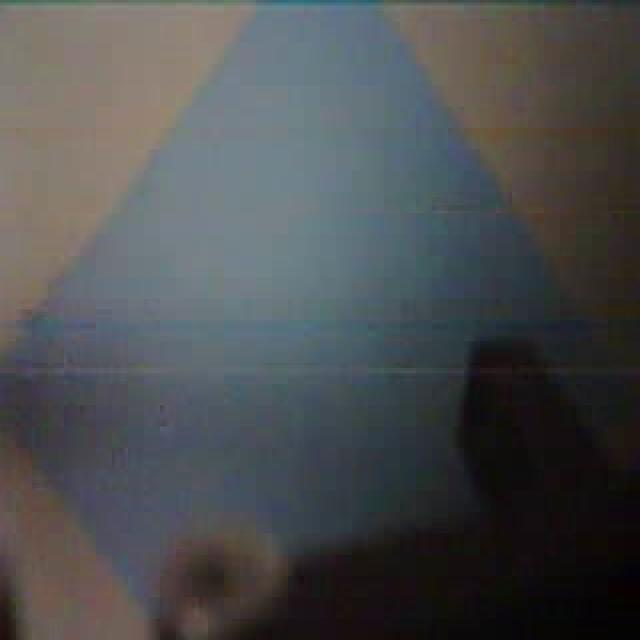blue_box: (6, 0, 566, 616)
